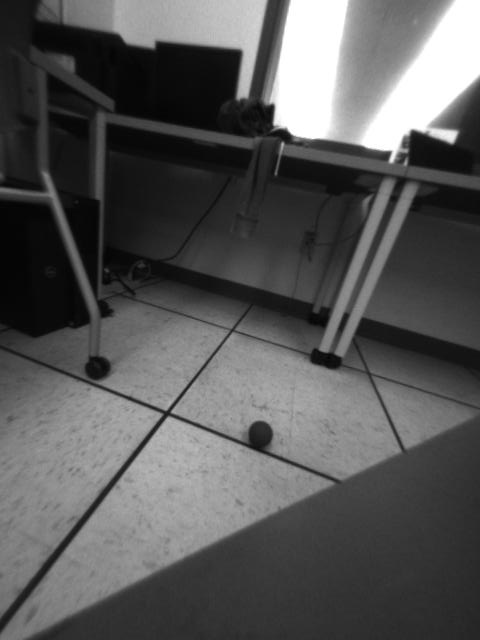dogtoy: (238, 411, 282, 459)
